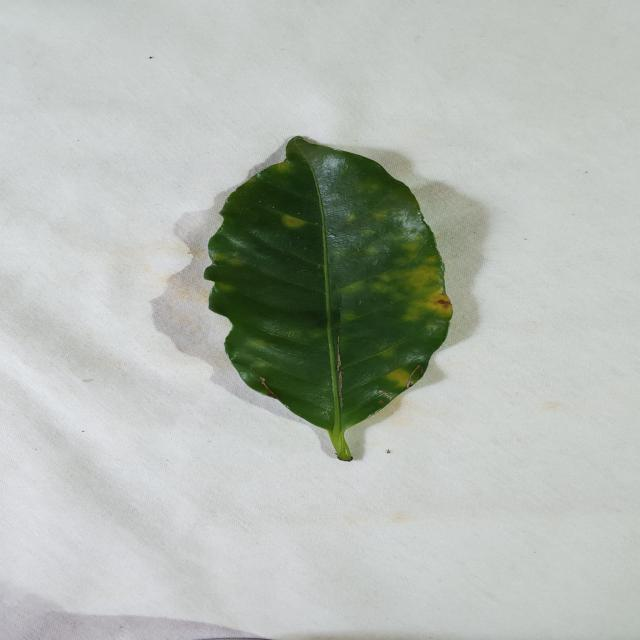Enfermedad-Roya: (201, 137, 454, 464)
